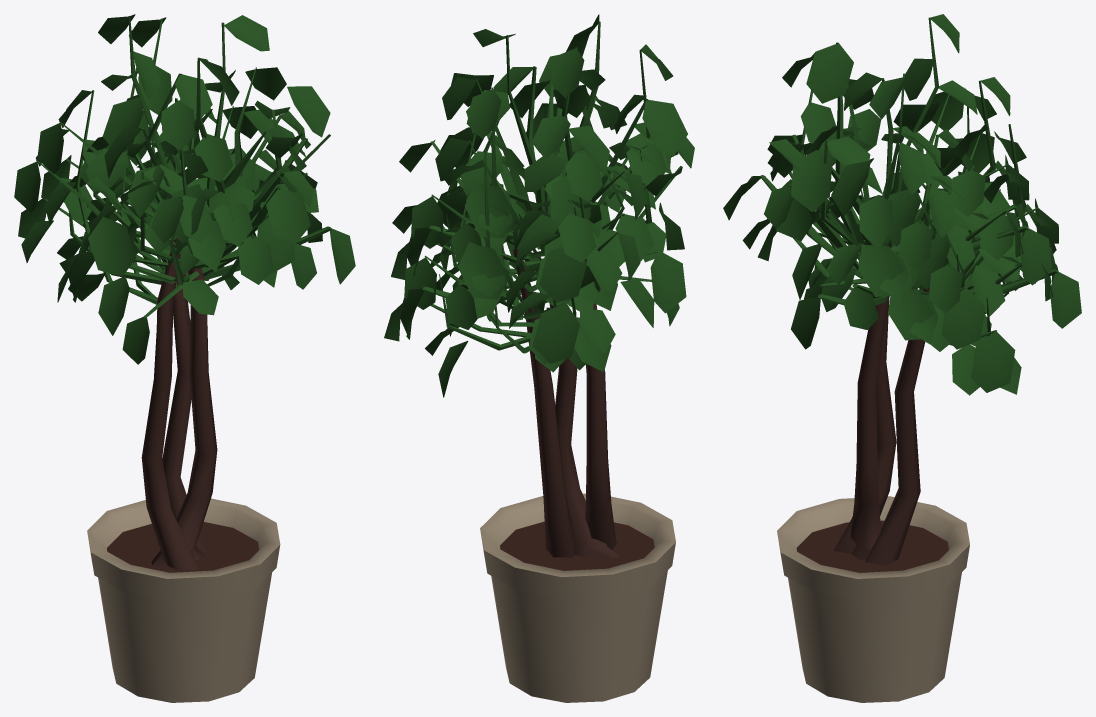
3 renders of one model, left to right at view 1: azimuth 30°, elevation 25°; view 2: azimuth 150°, elevation 25°; view 3: azimuth 270°, elevation 25°, orthographic.
Visible parts, largest first — view 1: flower_010; view 2: flower_010; view 3: flower_010.
Part boxes in pixels (x1,y1,x2,y2): flower_010: (14,14,355,702); flower_010: (384,14,694,702); flower_010: (723,14,1081,702).
Bounding box in the file's own units: 0.6847 × 1.63 × 0.8225.
